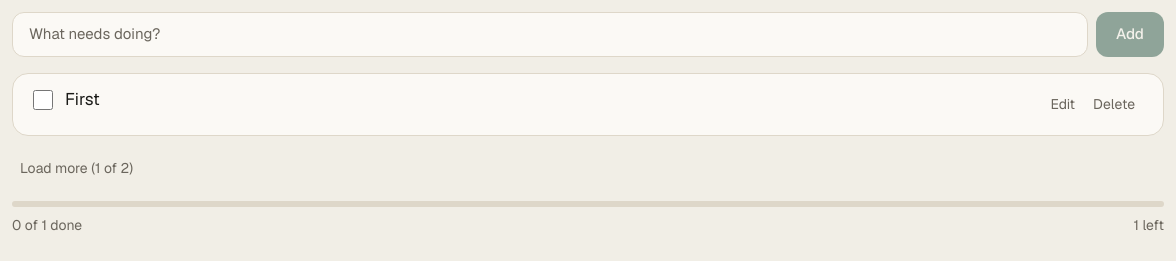
Test: TodoList › appends the next page
Click the button "Load more (1 of 2)" at (77, 168), box x1=12 y1=152 x2=141 y2=184
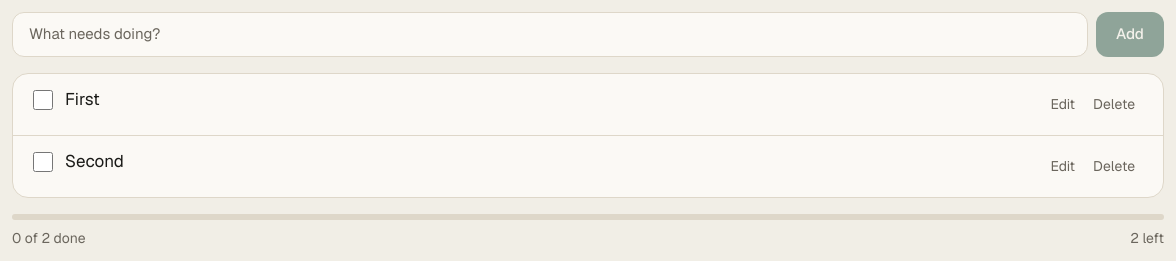
Expected: the text "First" is shown, x1=65 y1=88 x2=100 y2=110
Result: the text "Second" is shown at x1=65 y1=150 x2=124 y2=172
